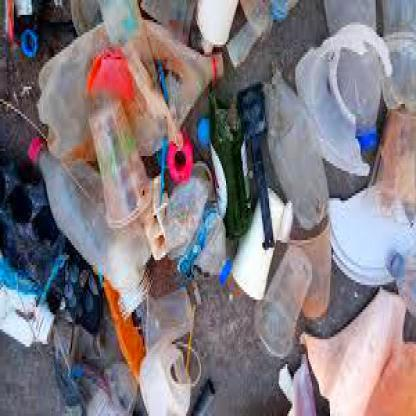Plastic: (21, 133, 158, 289), (318, 1, 393, 150), (244, 245, 317, 361), (85, 101, 152, 227), (227, 189, 287, 305), (190, 1, 240, 64), (385, 245, 416, 325)
